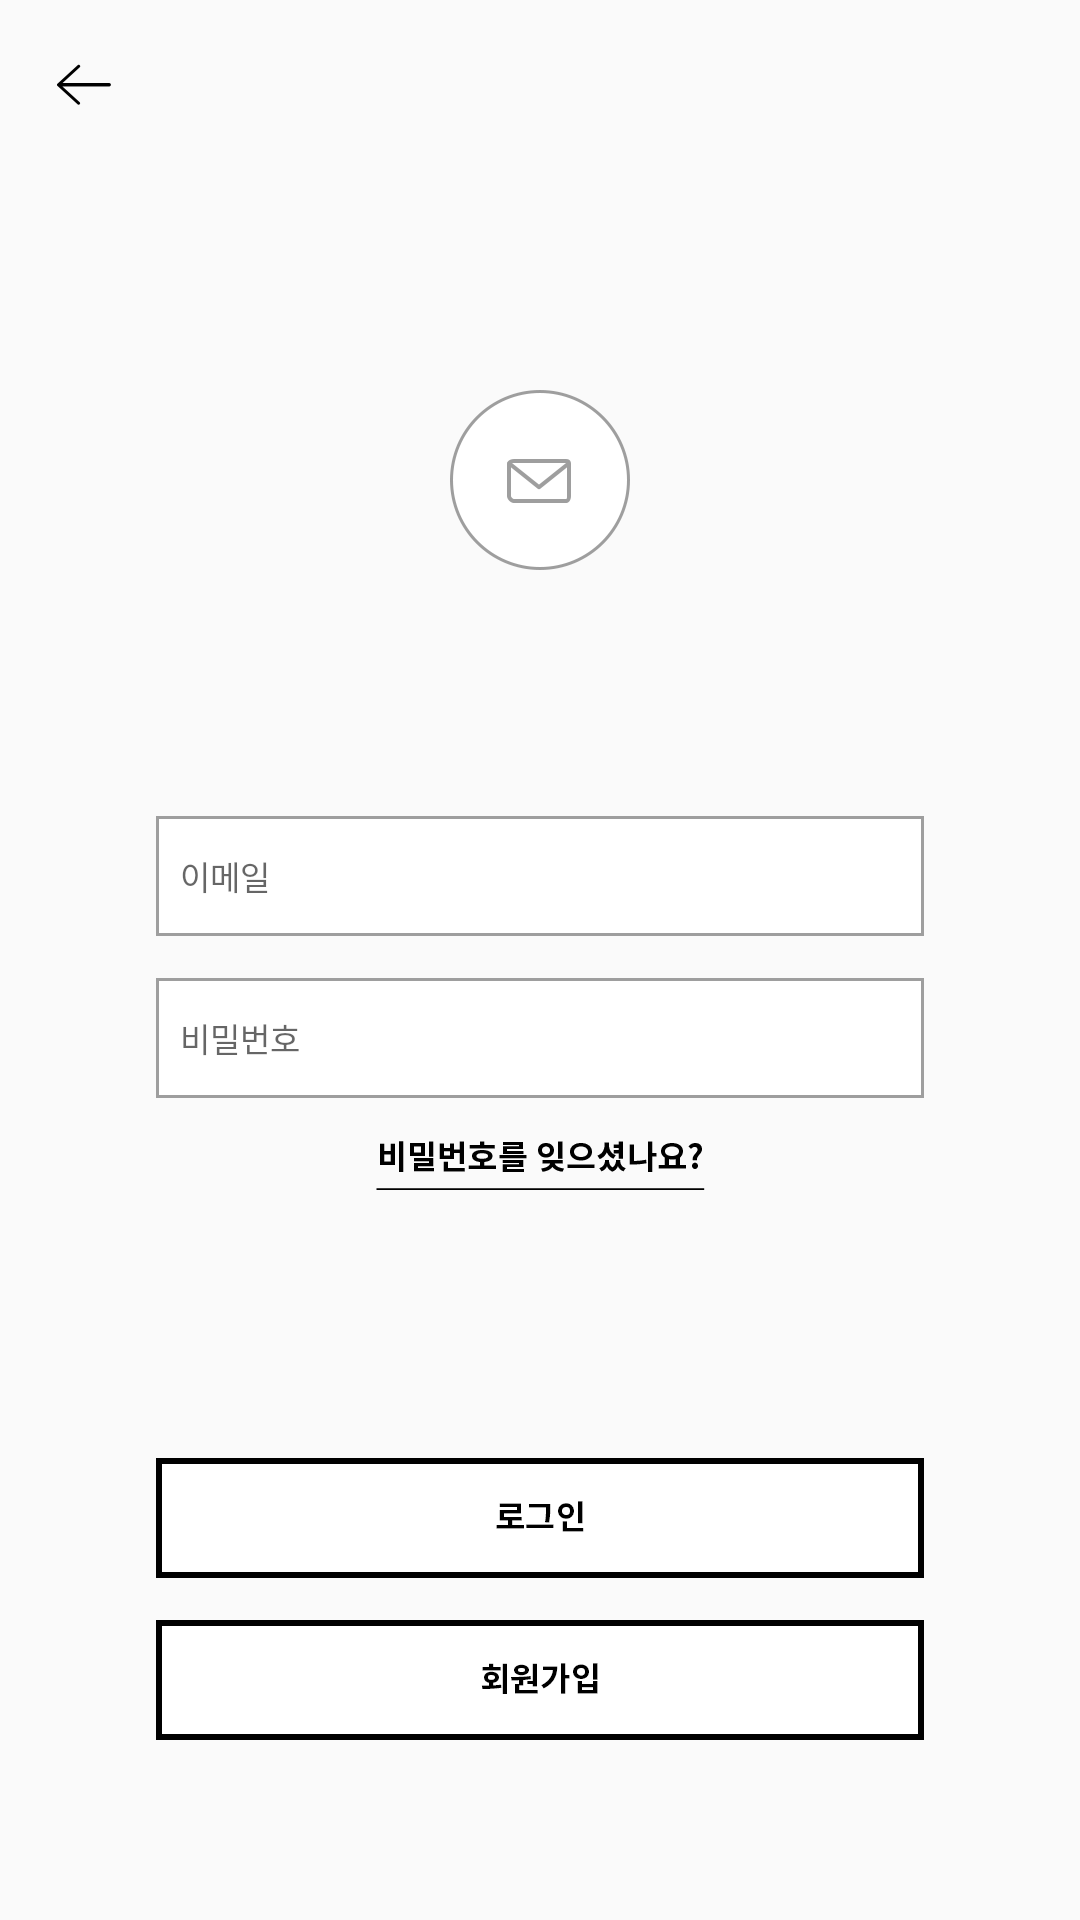

Icons on this 1080px x 1920px Android screen, each with its box as [x1=x1, y1=y1, x2=x2, y2=y2]:
back: [x1=57, y1=64, x2=111, y2=105]
mail: [x1=450, y1=390, x2=630, y2=570]
